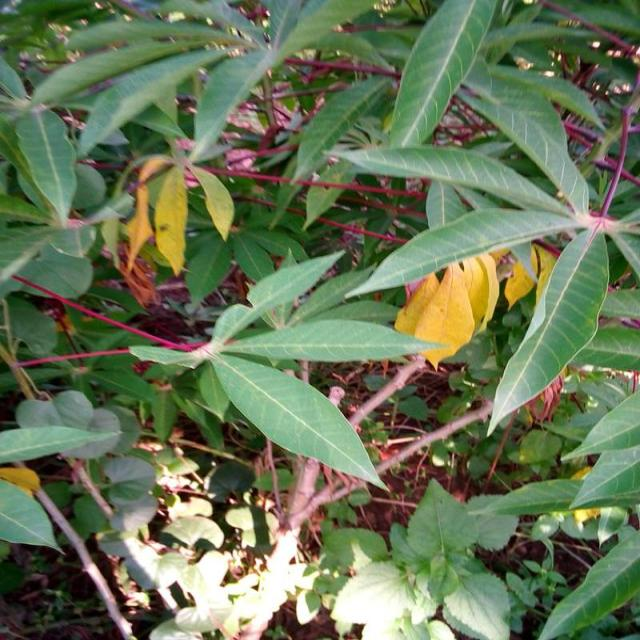cassava leaf: (486, 223, 612, 437), (207, 351, 390, 491), (390, 0, 501, 148)
